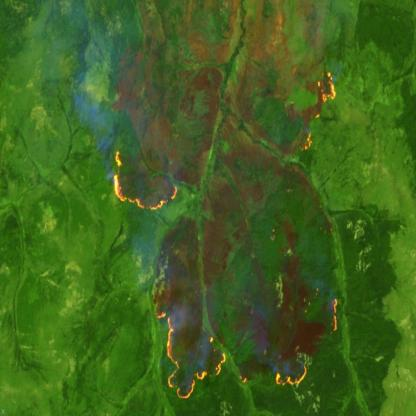fire: (150, 296, 341, 404), (112, 148, 179, 216), (299, 69, 337, 153)
